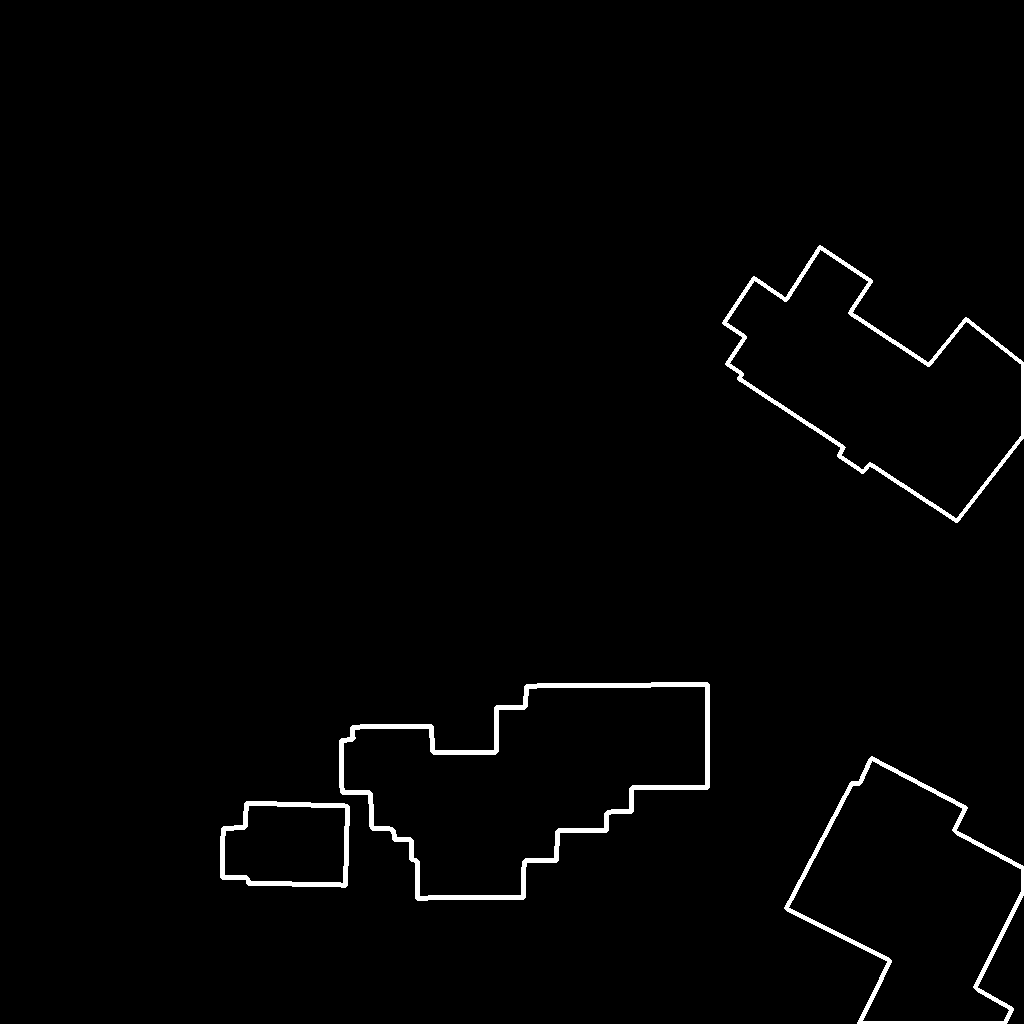building: (724, 247, 1024, 522), (341, 684, 709, 899), (786, 758, 1024, 1024), (222, 803, 349, 886)
